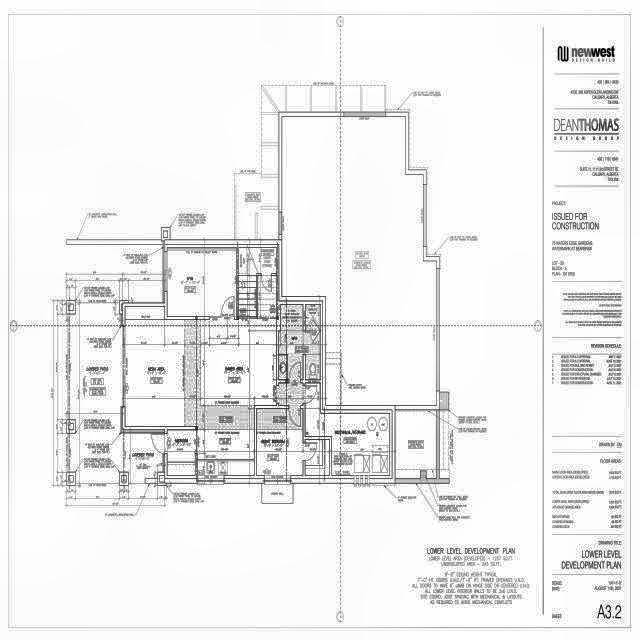room: (305, 383, 390, 475), (167, 248, 236, 316), (279, 305, 320, 380), (257, 409, 303, 475), (305, 440, 329, 475), (305, 305, 320, 330)
